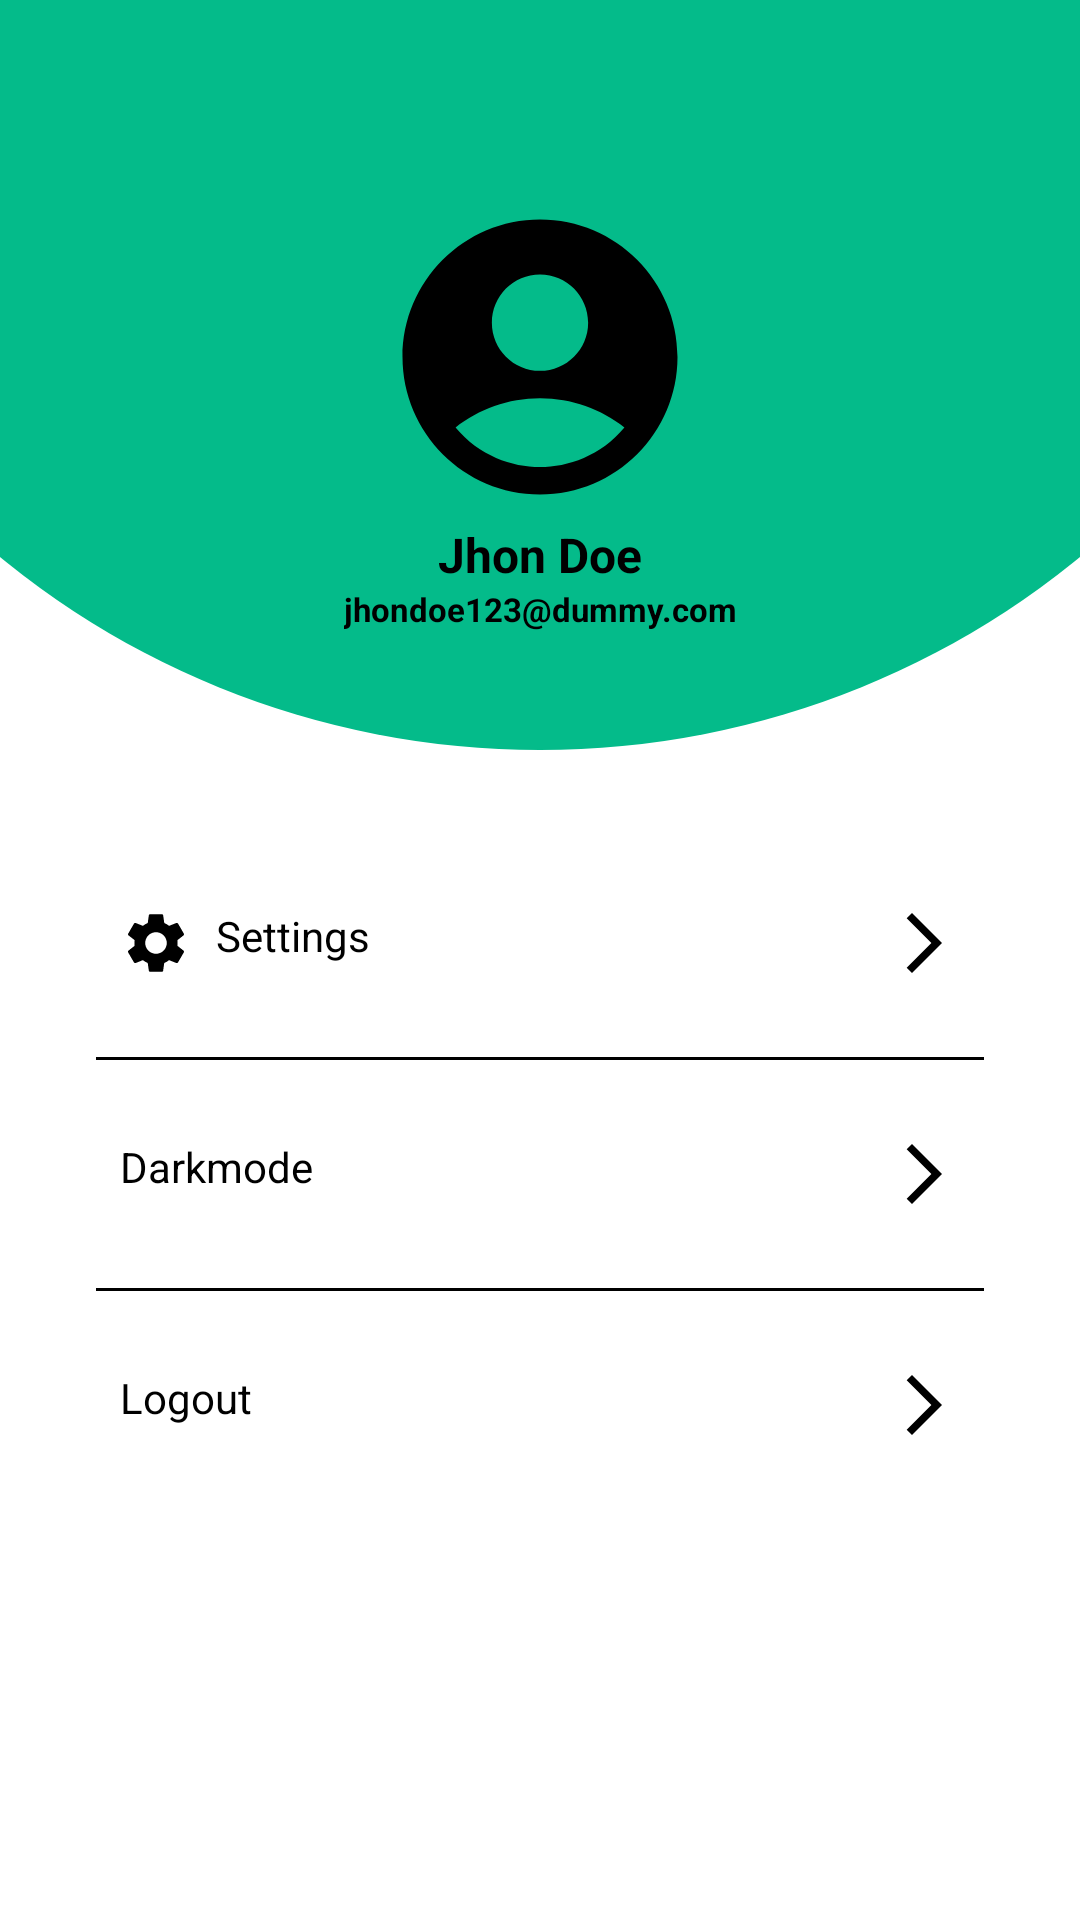

Locate icon controls on the screen. Image size 1080w x 1920h, boxes as (x1, y1, x2, y2).
User Profile Image: (402, 219, 678, 495)
